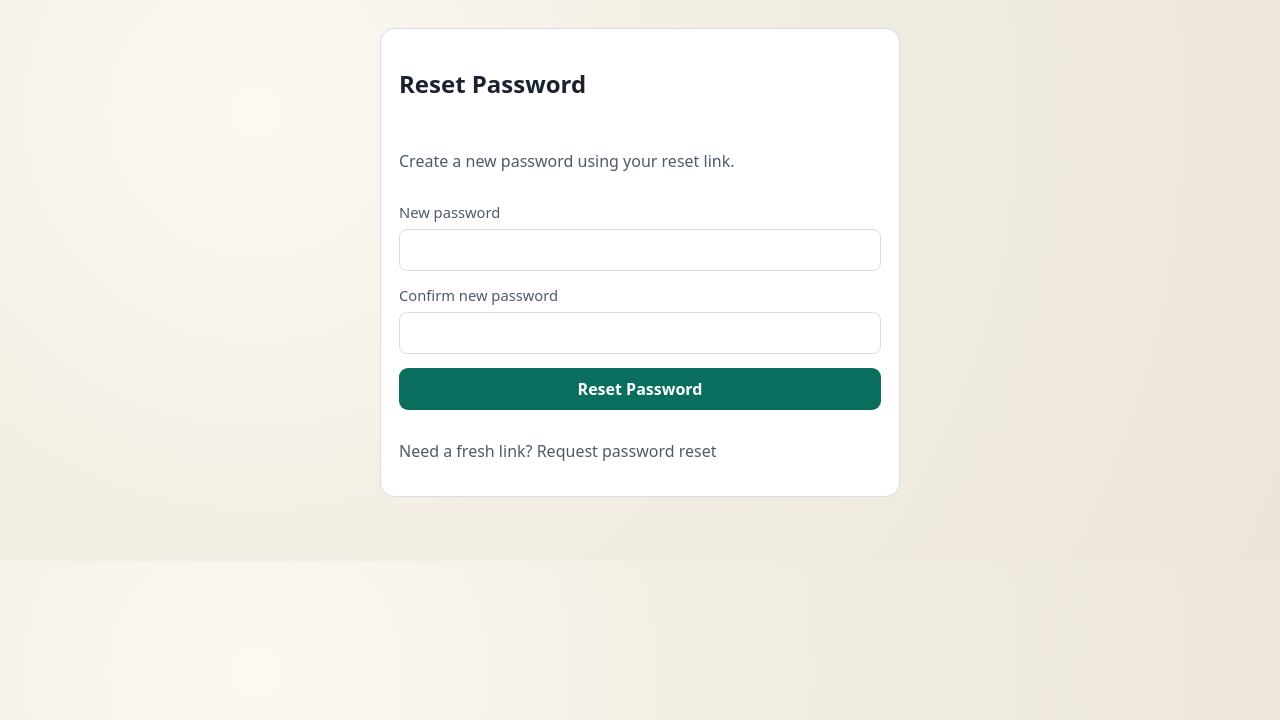
it: ResetPasswordClient › shows invalid token error for 400
The width and height of the screenshot is (1280, 720).
Type "new-password-123" into the password field labelled "New password" at (640, 250), box top-left (399, 229), bottom-right (881, 271)
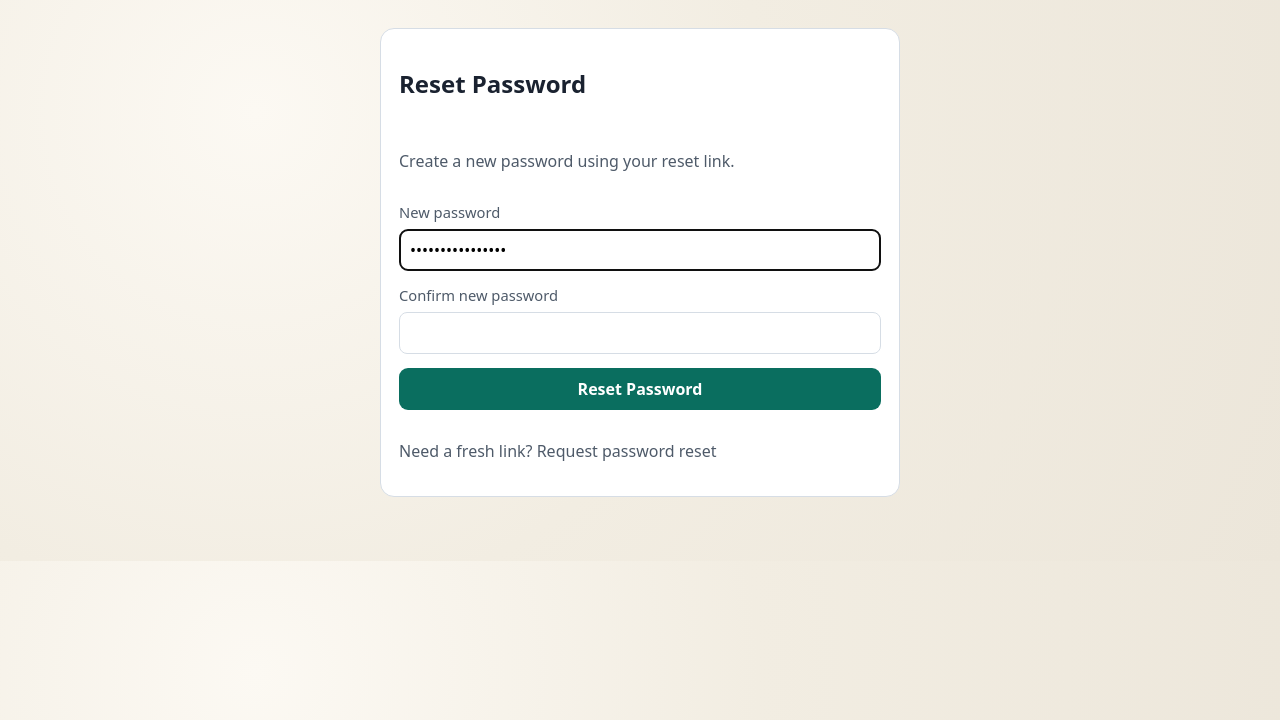
Type "new-password-123" into the password field labelled "Confirm new password" at (640, 333), box top-left (399, 312), bottom-right (881, 354)
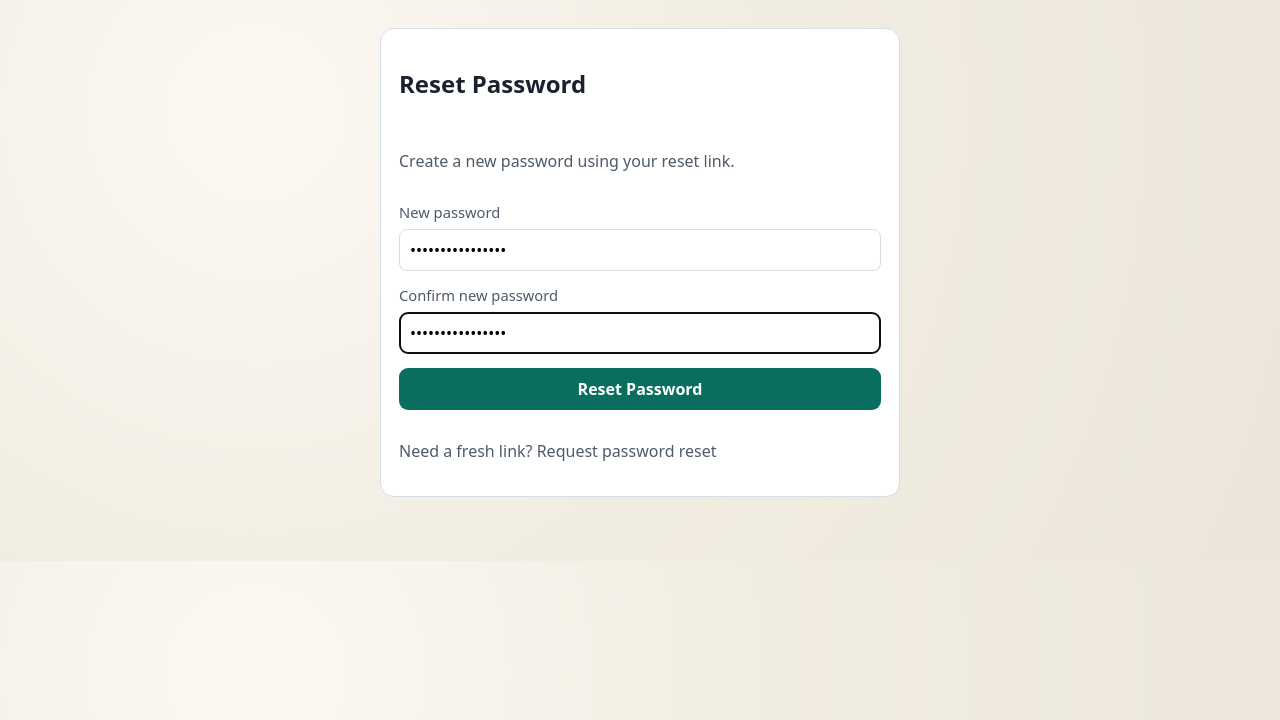
Click the button "Reset Password" at (640, 389), box top-left (399, 368), bottom-right (881, 410)
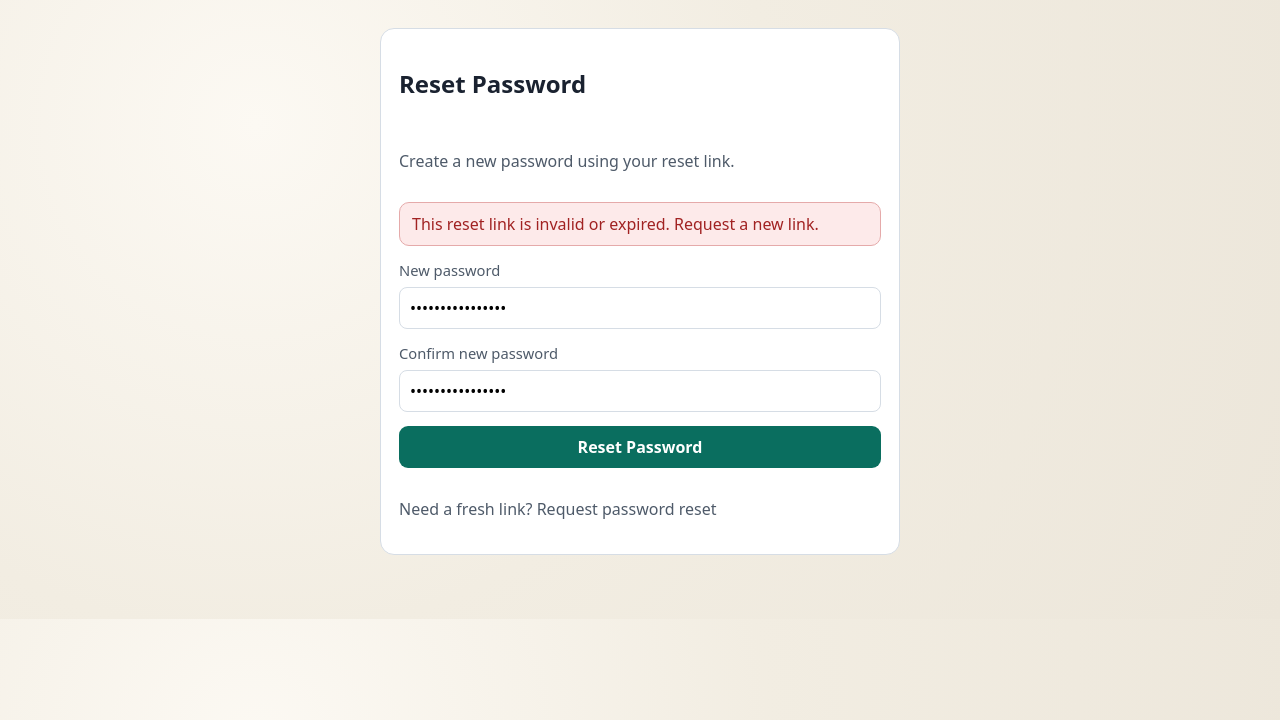
Expected: the link "Request password reset" is shown, top-left (537, 498), bottom-right (716, 520)
Now the text "This reset link is invalid or expired. Request a new link." is shown, box top-left (399, 202), bottom-right (881, 246)
